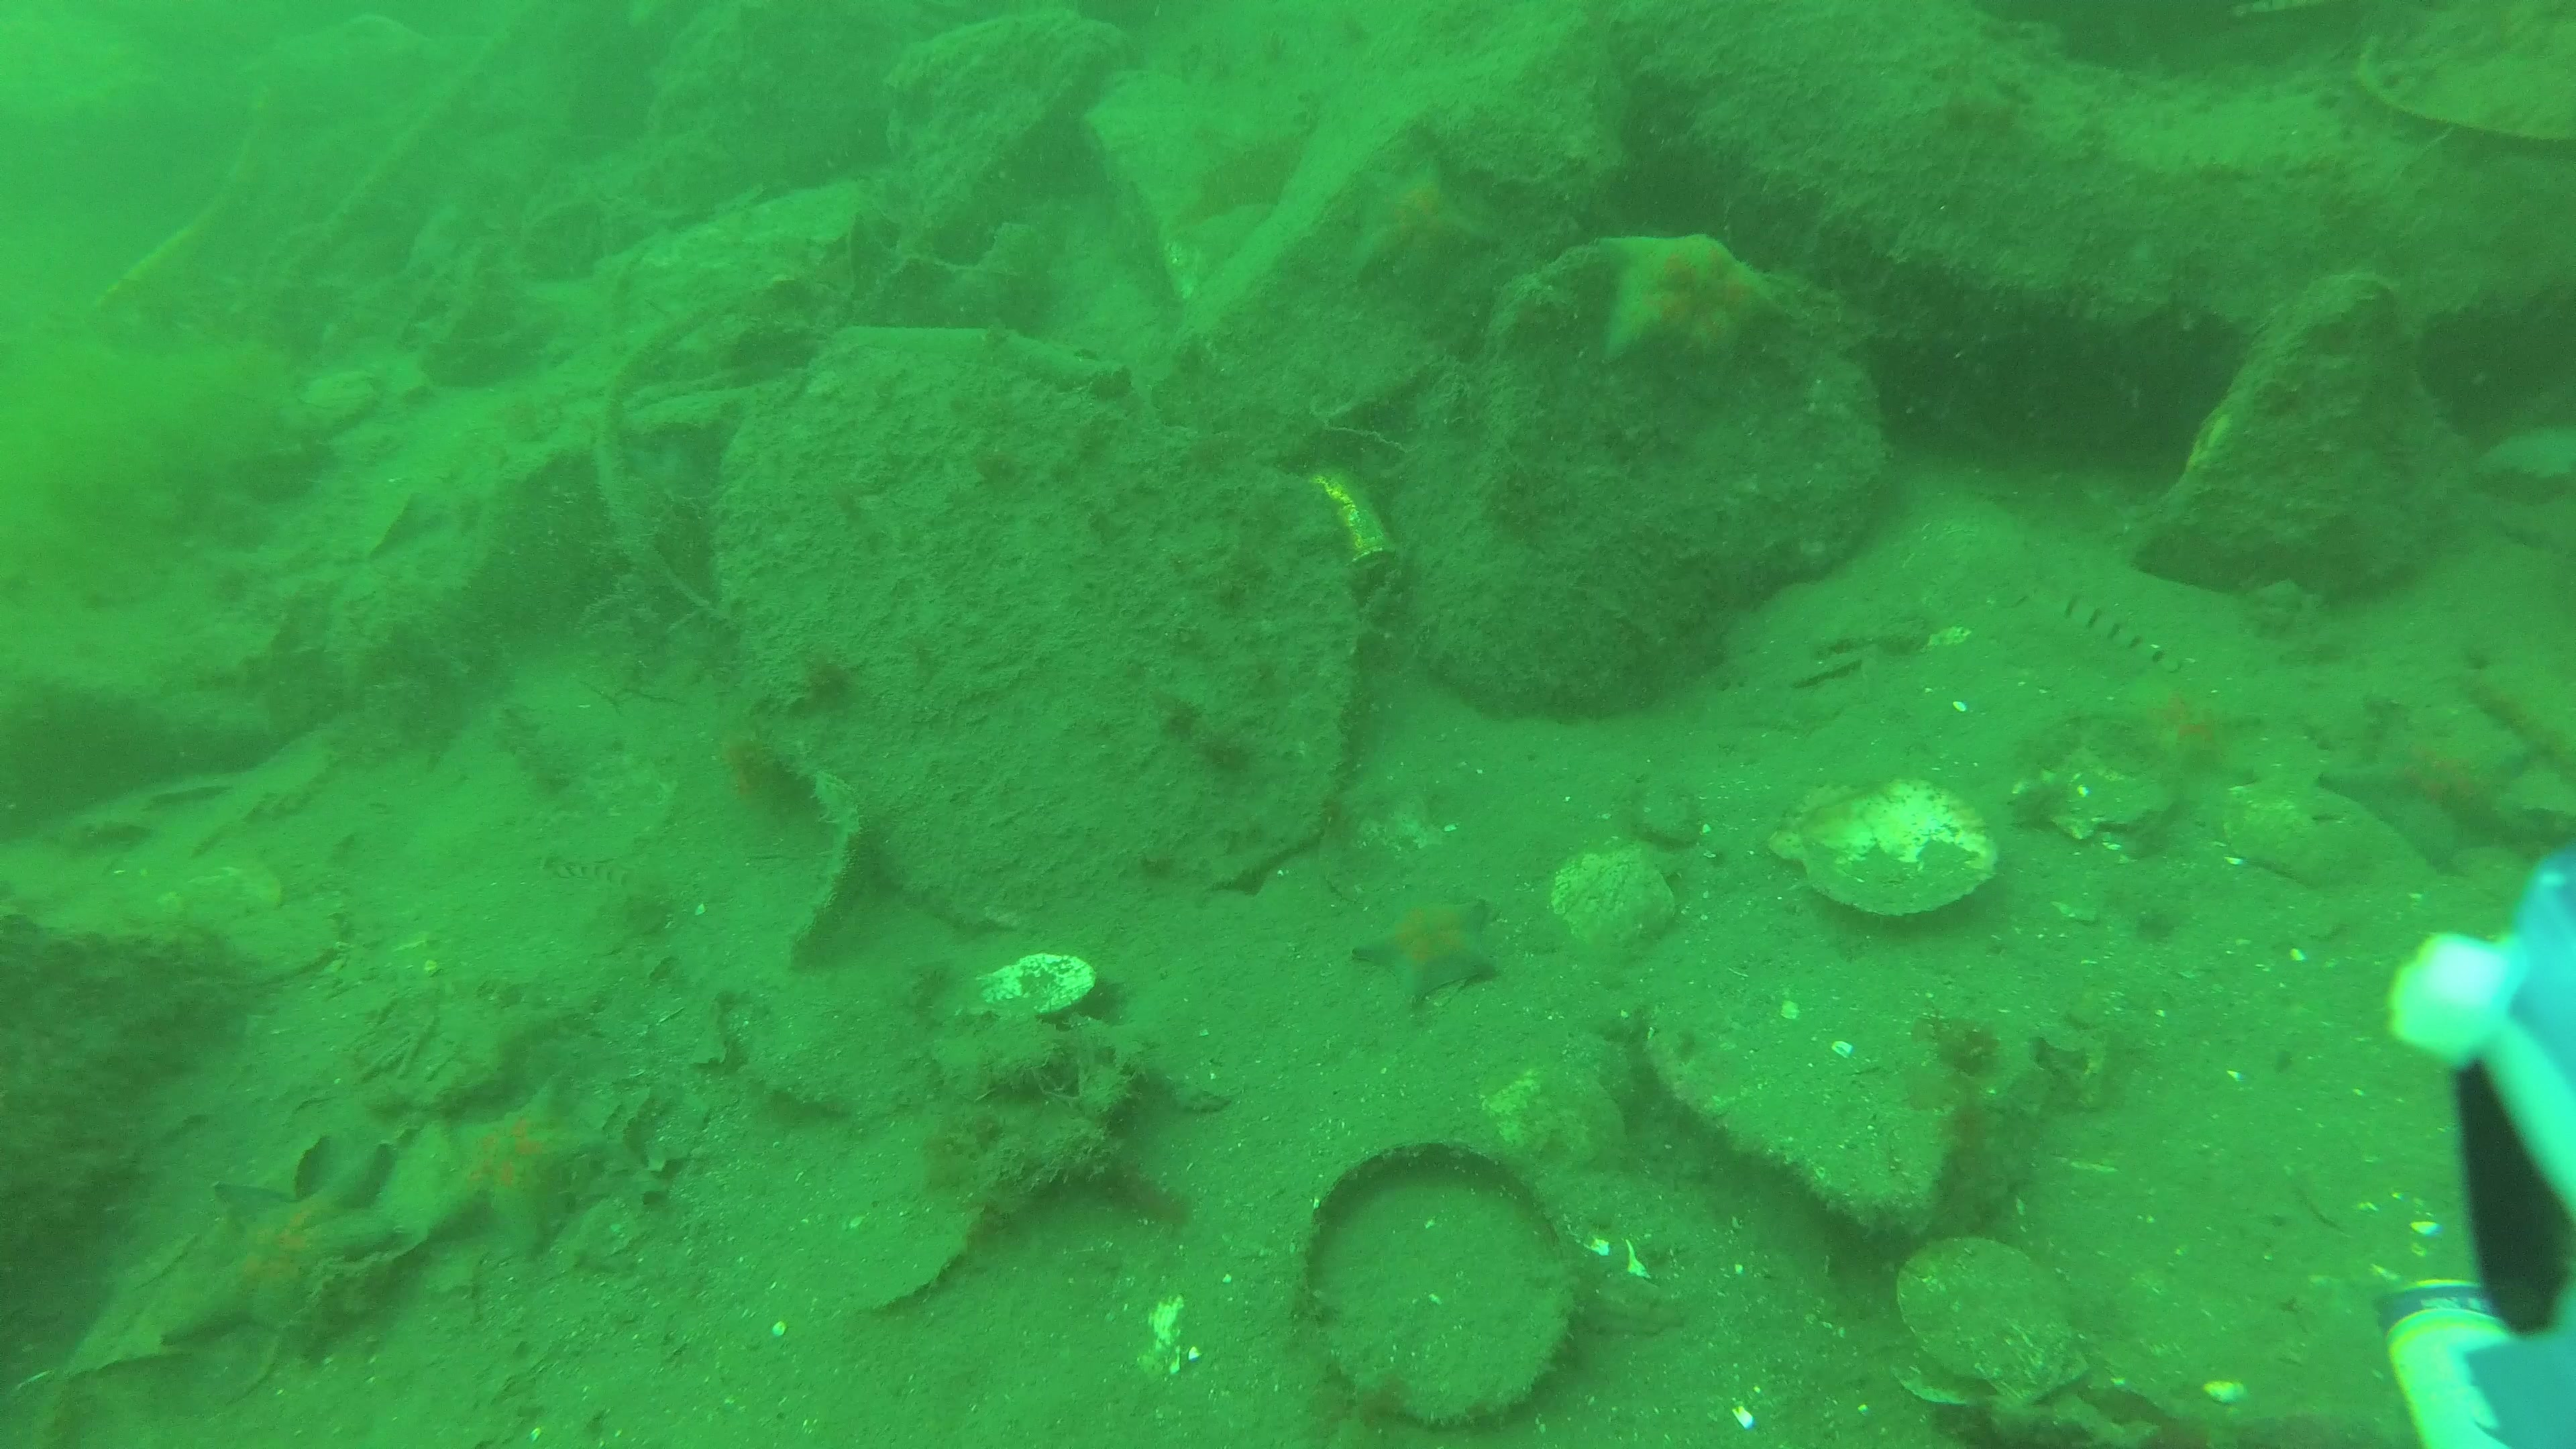holothurian: (789, 766, 870, 964)
scallop: (1893, 1244, 2079, 1419), (844, 1180, 987, 1313), (1488, 1069, 1631, 1182), (1552, 847, 1674, 955), (961, 950, 1097, 1017), (170, 862, 283, 936)
starfish: (161, 1145, 400, 1350), (2323, 702, 2530, 867), (409, 1093, 600, 1251), (1599, 232, 1775, 377), (1348, 152, 1493, 292), (1353, 892, 1504, 1014)
